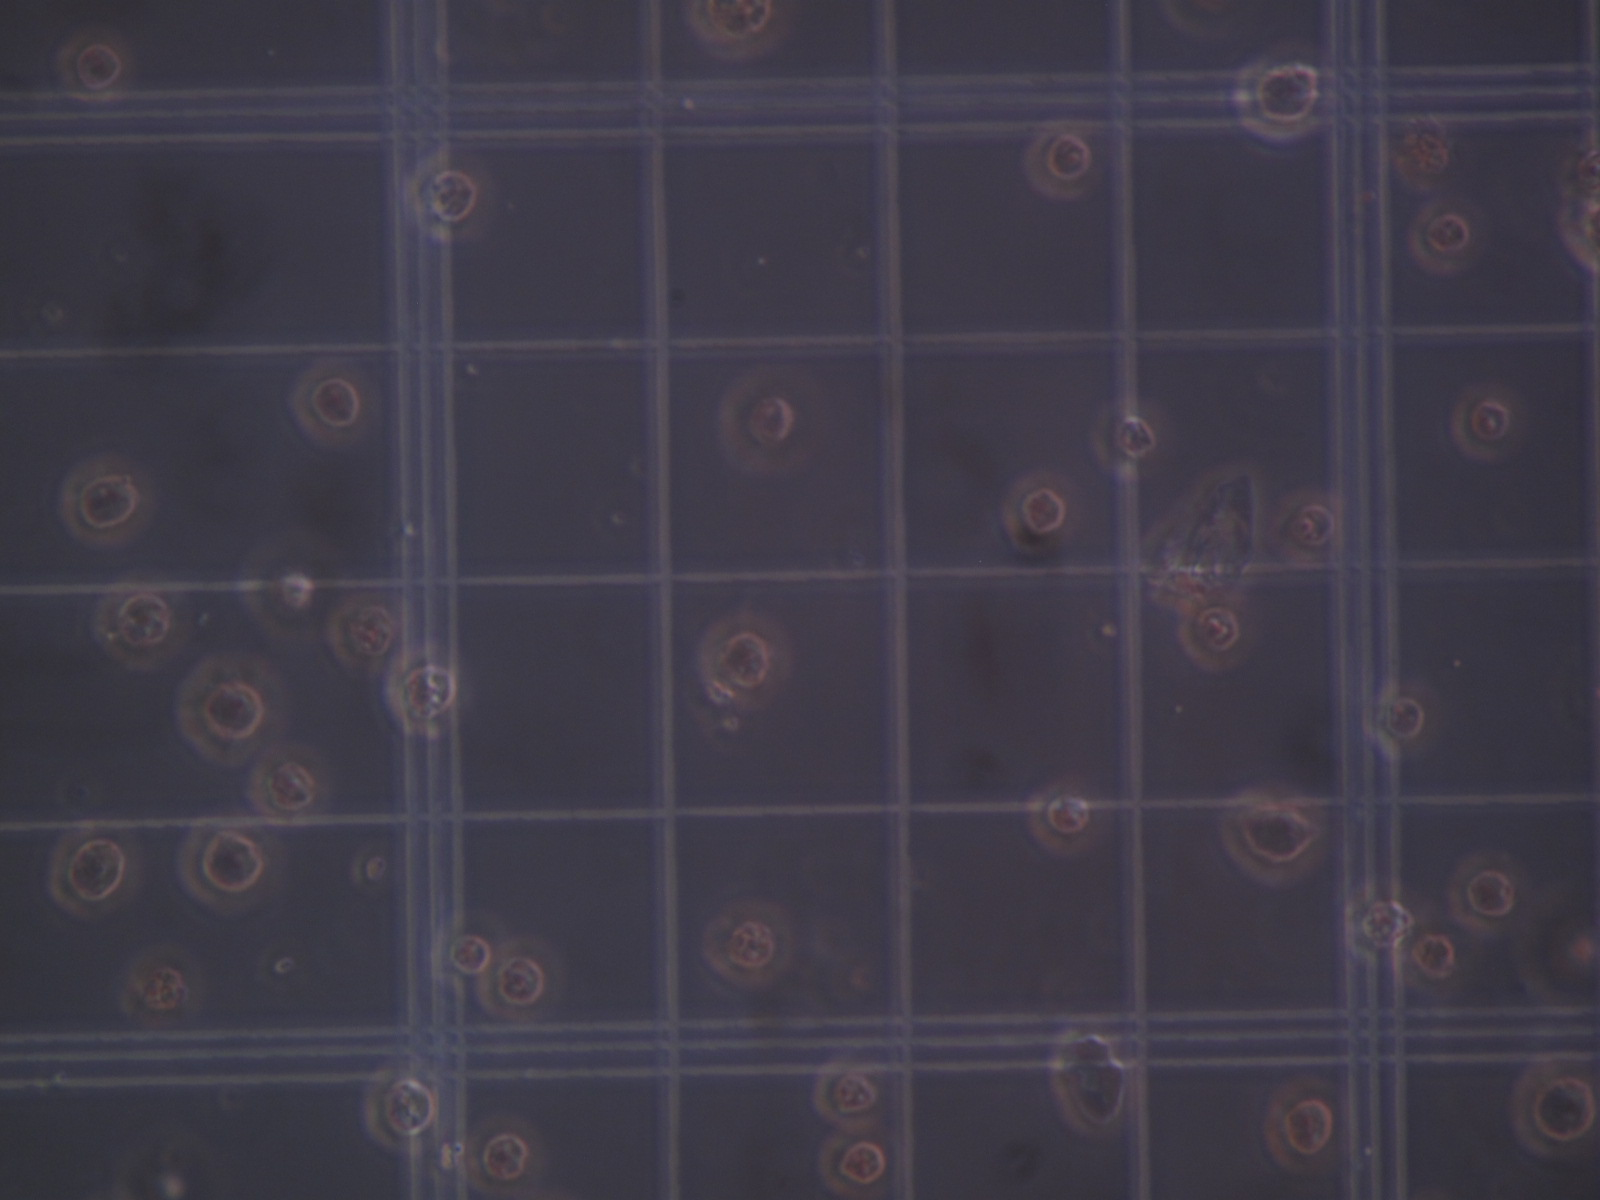hemo: (717, 366, 815, 476), (1048, 1029, 1139, 1138), (1223, 785, 1322, 886), (176, 653, 266, 763), (179, 809, 267, 918), (699, 613, 791, 710), (60, 455, 156, 547), (237, 536, 316, 647), (1511, 1060, 1596, 1158), (47, 821, 129, 921), (93, 576, 183, 667), (1264, 1075, 1348, 1171), (700, 899, 792, 986), (1233, 55, 1323, 142), (379, 644, 460, 739), (406, 155, 489, 242), (1448, 848, 1531, 932), (289, 361, 370, 445), (464, 1111, 543, 1195), (1269, 483, 1347, 566), (1002, 469, 1077, 555), (1028, 773, 1104, 856), (365, 1059, 435, 1150), (324, 597, 407, 673), (816, 1124, 902, 1197), (246, 753, 328, 828), (123, 945, 199, 1027), (1177, 587, 1251, 671), (55, 24, 134, 102), (480, 942, 557, 1021), (685, 1, 787, 61), (1344, 881, 1419, 961), (1089, 395, 1158, 478), (813, 1059, 886, 1133), (1023, 120, 1094, 197), (435, 908, 510, 977), (1397, 921, 1464, 996), (1453, 379, 1512, 463), (1409, 203, 1471, 276), (1368, 678, 1427, 755), (351, 841, 397, 896)
